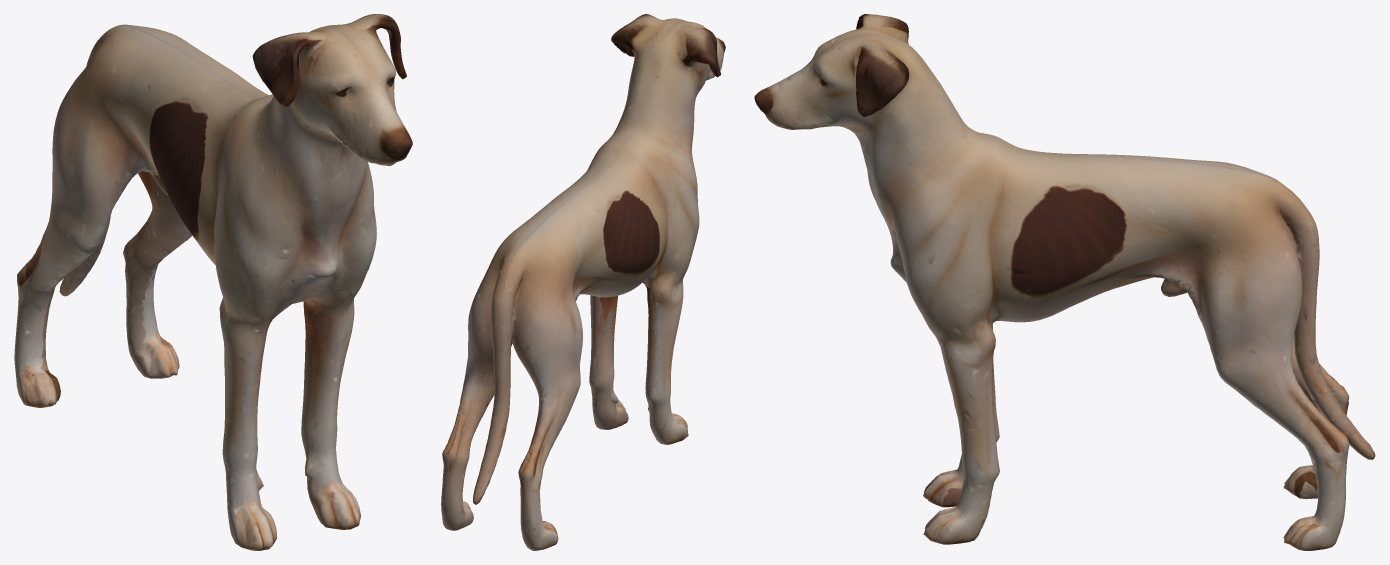
The model's file is perro.glb.
3 views of the same model, side by side, from view 1: azimuth 30°, elevation 25°; view 2: azimuth 150°, elevation 25°; view 3: azimuth 270°, elevation 25° (orthographic). The views are drawn at different scales.
Parts seen in each view (by area): view 1: perro; view 2: perro; view 3: perro.
Boxes of the visible parts, x1=… form: perro: x1=14, y1=14, x2=412, y2=550; perro: x1=441, y1=14, x2=725, y2=550; perro: x1=754, y1=14, x2=1375, y2=550.
Size of the model in its own units: 0.2468 by 0.82 by 0.9453.
1 material, 1 textured.
